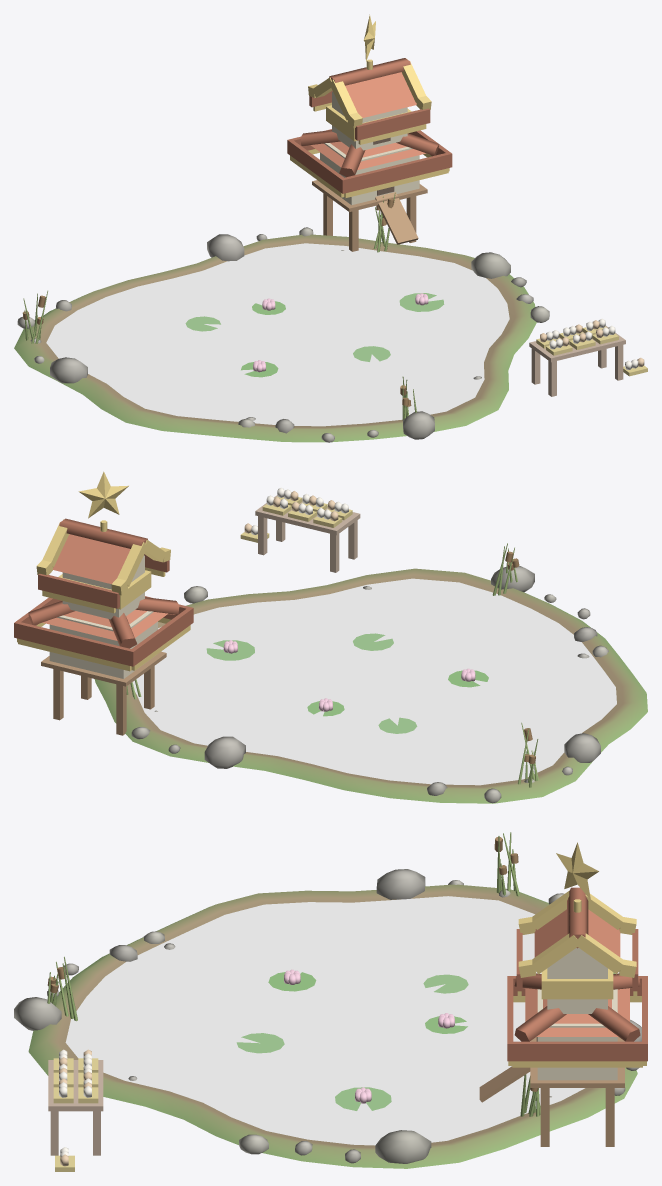
File: duck_pond_2.glb
The picture shows the model from 3 angles, top to bottom: view 1: azimuth 30°, elevation 25°; view 2: azimuth 150°, elevation 25°; view 3: azimuth 270°, elevation 25°; orthographic projection. The views are drawn at different scales.
Visible parts, largest first — view 1: duck_pond_2, body4, body3; view 2: duck_pond_2, body4, body3, body, body2; view 3: duck_pond_2, body4, body3, body2, body.
Boxes of the visible parts, x1=… form: duck_pond_2: x1=14, y1=58, x2=536, y2=442; body4: x1=17, y1=14, x2=625, y2=442; body3: x1=582, y1=318, x2=647, y2=376; duck_pond_2: x1=17, y1=518, x2=647, y2=803; body4: x1=14, y1=471, x2=608, y2=803; body3: x1=240, y1=487, x2=302, y2=542; body: x1=313, y1=500, x2=352, y2=527; body2: x1=288, y1=493, x2=327, y2=521; duck_pond_2: x1=28, y1=884, x2=646, y2=1168; body4: x1=14, y1=832, x2=647, y2=1163; body3: x1=53, y1=1078, x2=98, y2=1171; body2: x1=53, y1=1064, x2=98, y2=1087; body: x1=53, y1=1049, x2=98, y2=1072.
Bounding box in the file's own units: 2.7 × 1.28 × 2.54.
